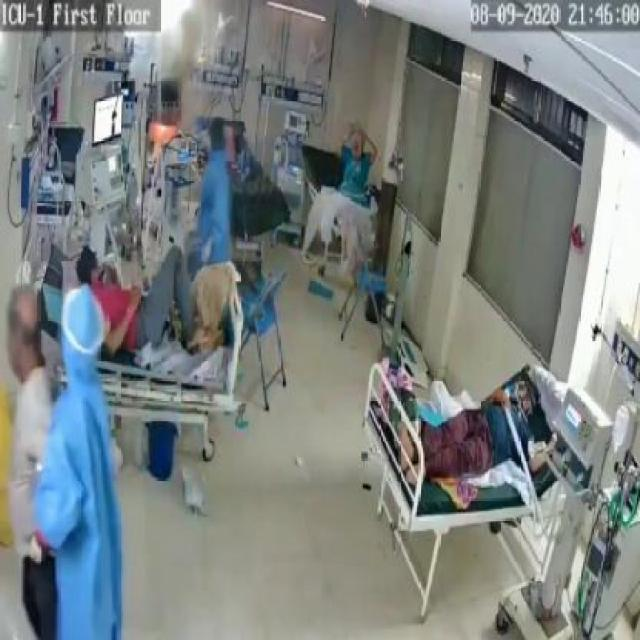smoke: (160, 23, 197, 97)
